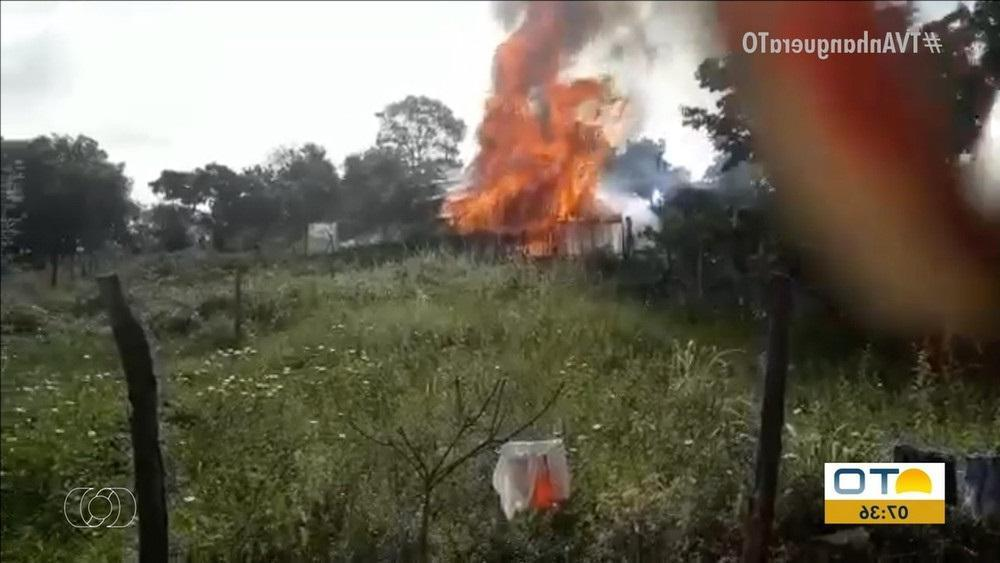Fire: (442, 26, 623, 238)
